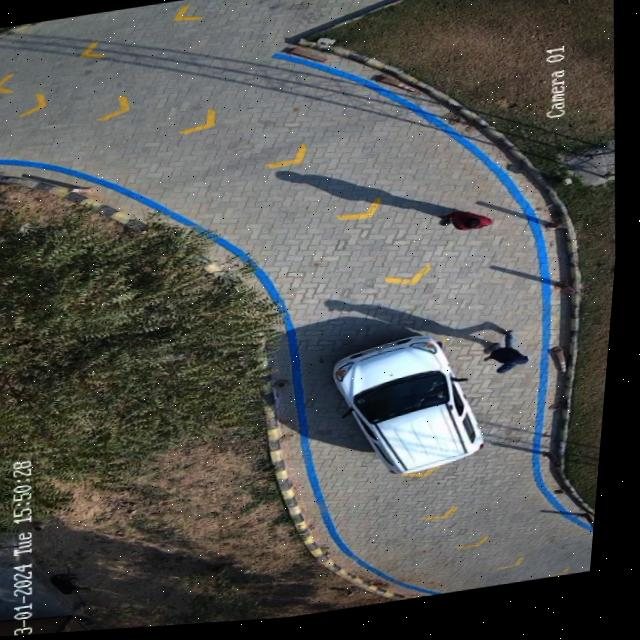car: (339, 341, 491, 479)
